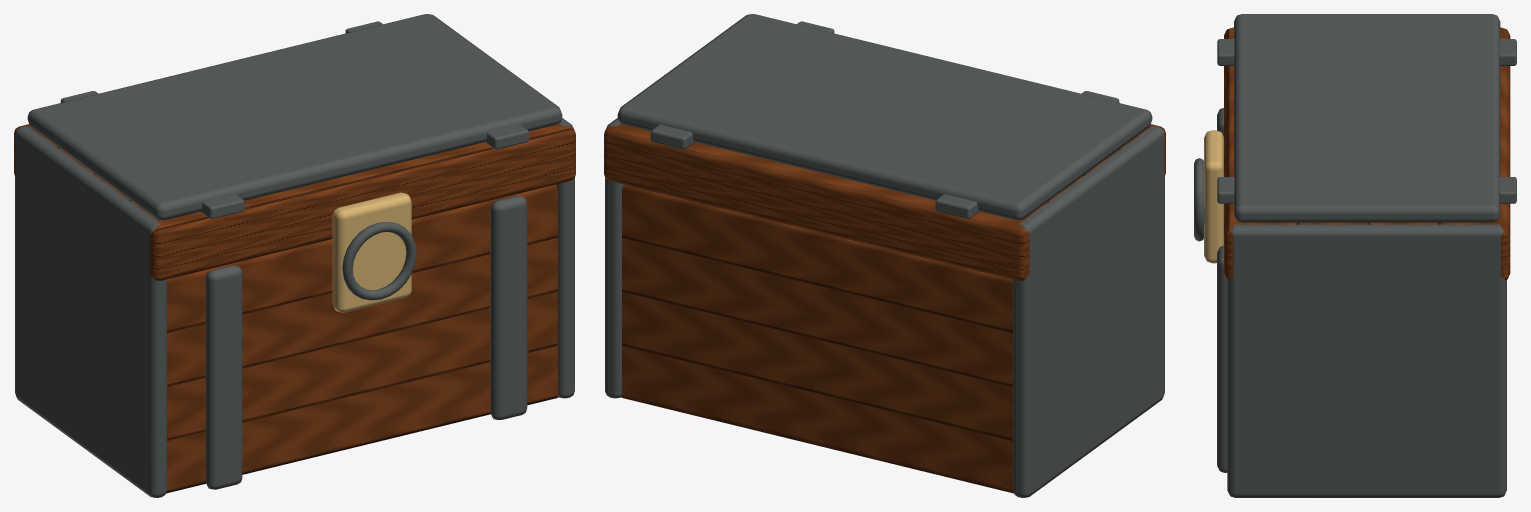
File: adventurers-tavern-and-guild-hall-iron-coffer-e6442c8b__24702.glb
The picture shows the model from 3 angles, left to right: view 1: azimuth 30°, elevation 25°; view 2: azimuth 150°, elevation 25°; view 3: azimuth 270°, elevation 25°; orthographic projection.
Visible parts, largest first — view 1: iron-coffer, lid (×2); view 2: iron-coffer, lid (×2); view 3: iron-coffer, lid (×2).
Boxes of the visible parts, x1,y1,x2,y2 form: iron-coffer: (15, 14, 574, 497); lid (×2): (14, 21, 575, 280); iron-coffer: (605, 14, 1164, 497); lid (×2): (604, 21, 1165, 280); iron-coffer: (1194, 14, 1506, 497); lid (×2): (1217, 28, 1516, 280).
Size of the model in its own units: 0.7324 by 0.48 by 0.485.
3 materials, 1 textured.
